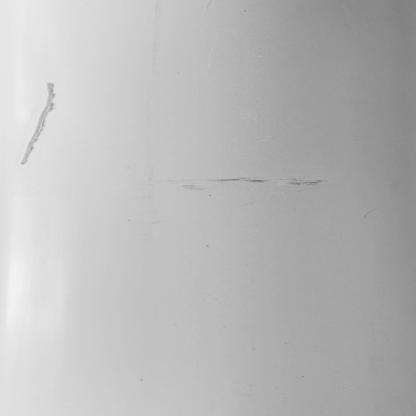sunshang: (17, 80, 65, 168), (175, 170, 324, 193)
